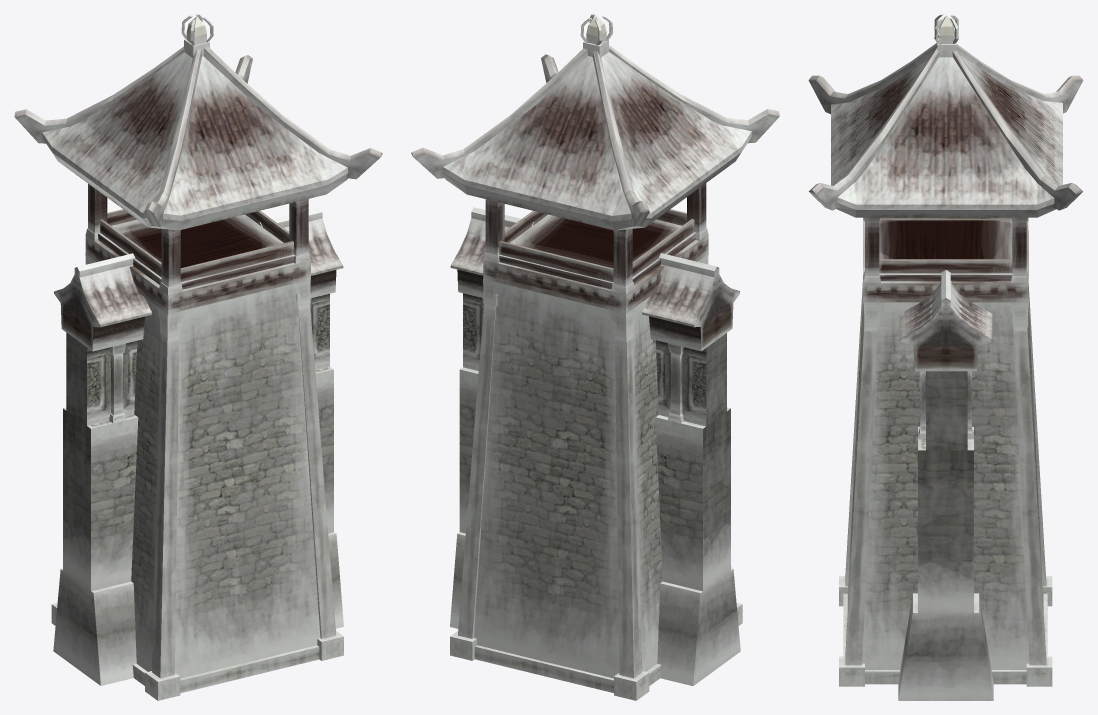
File: snow-middledam-07.fbx
3 renders of one model, left to right at view 1: azimuth 30°, elevation 25°; view 2: azimuth 150°, elevation 25°; view 3: azimuth 270°, elevation 25°, orthographic.
Visible parts, largest first — view 1: snow_middledam-03, snow-middledam-02, snow-middledam-04; view 2: snow_middledam-03, snow-middledam-02, snow-middledam-04; view 3: snow_middledam-03, snow-middledam-02, snow-middledam-04.
Part boxes in pixels (x1,y1,x2,y2): snow_middledam-03: [42, 14, 347, 700]; snow-middledam-02: [53, 207, 343, 685]; snow-middledam-04: [14, 46, 382, 314]; snow_middledam-03: [442, 14, 751, 700]; snow-middledam-02: [450, 207, 740, 685]; snow-middledam-04: [411, 45, 779, 313]; snow_middledam-03: [831, 14, 1062, 686]; snow-middledam-02: [898, 270, 993, 700]; snow-middledam-04: [808, 43, 1083, 302].
Bounding box in the file's own units: 5.02 × 12.29 × 4.9.
